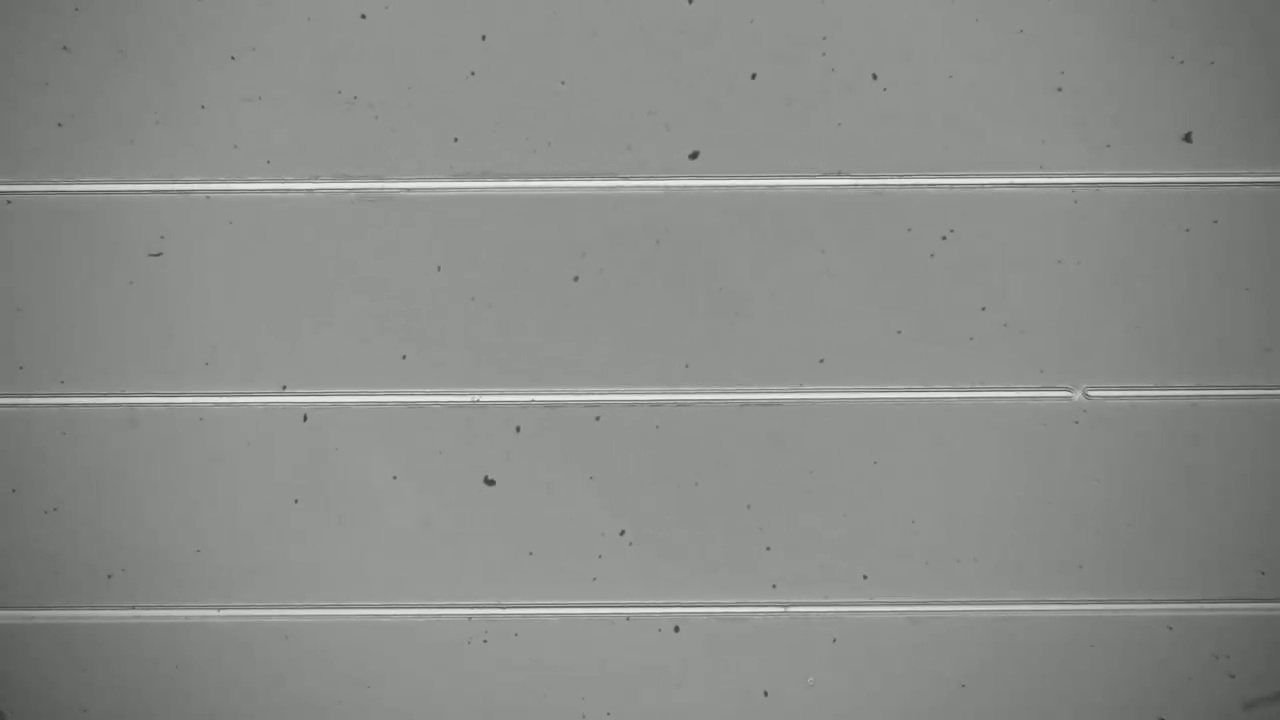open: (1062, 376, 1099, 409)
